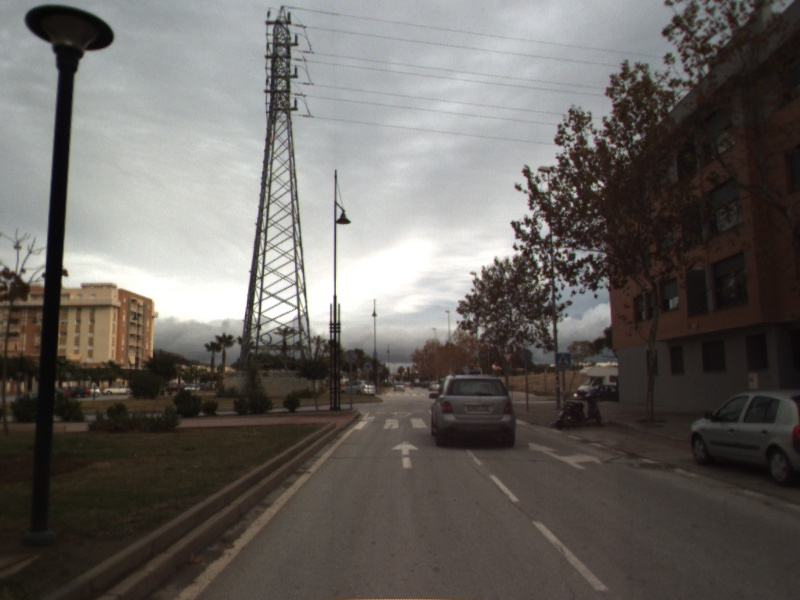STRAIGHT: (390, 438, 421, 470)
STRAIGHT_RIGHT: (527, 440, 604, 471)
